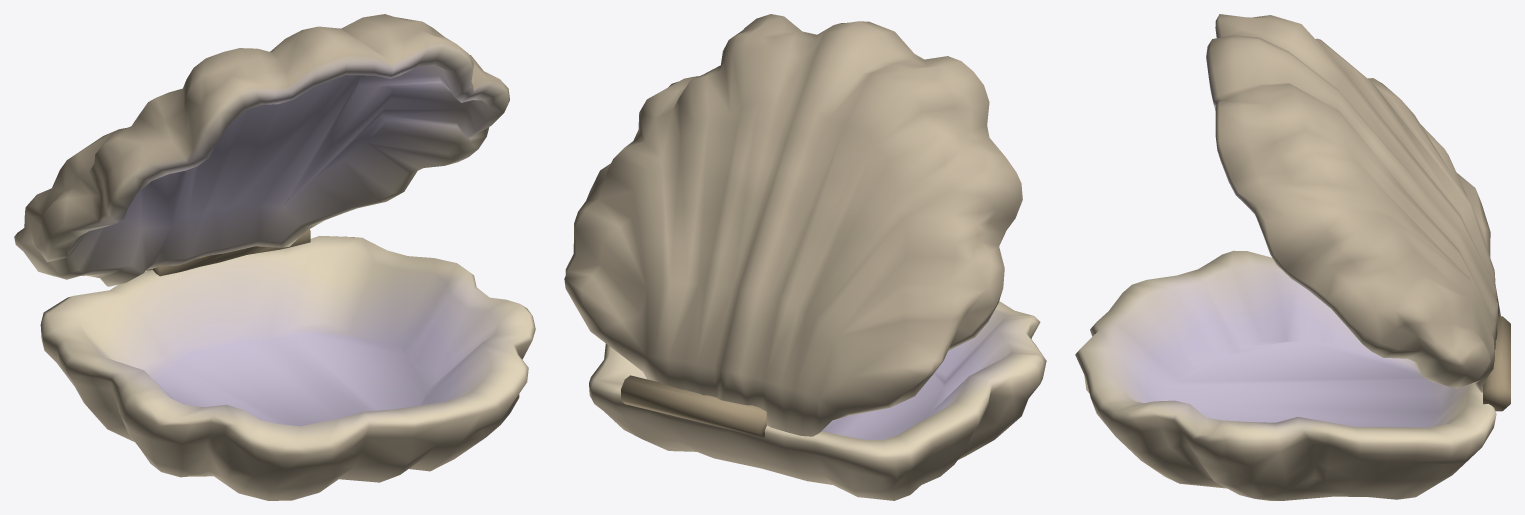
Rendered from shell_pearl_oyster.fbx.
3 renders of one model, left to right at view 1: azimuth 30°, elevation 25°; view 2: azimuth 150°, elevation 25°; view 3: azimuth 270°, elevation 25°, orthographic. The views are drawn at different scales.
Parts seen in each view (by area): view 1: shell_pearl_oyster_Body, shell_pearl_oyster_Lid; view 2: shell_pearl_oyster_Lid, shell_pearl_oyster_Body; view 3: shell_pearl_oyster_Body, shell_pearl_oyster_Lid.
Part boxes in pixels (x1,y1,x2,y2): shell_pearl_oyster_Body: (40,229,535,500); shell_pearl_oyster_Lid: (14,14,509,286); shell_pearl_oyster_Lid: (564,14,1022,436); shell_pearl_oyster_Body: (589,301,1046,500); shell_pearl_oyster_Body: (1075,250,1510,500); shell_pearl_oyster_Lid: (1206,14,1500,392).
Bounding box in the file's own units: 0.2201 × 0.2061 × 0.2002.
1 material, 1 textured.
